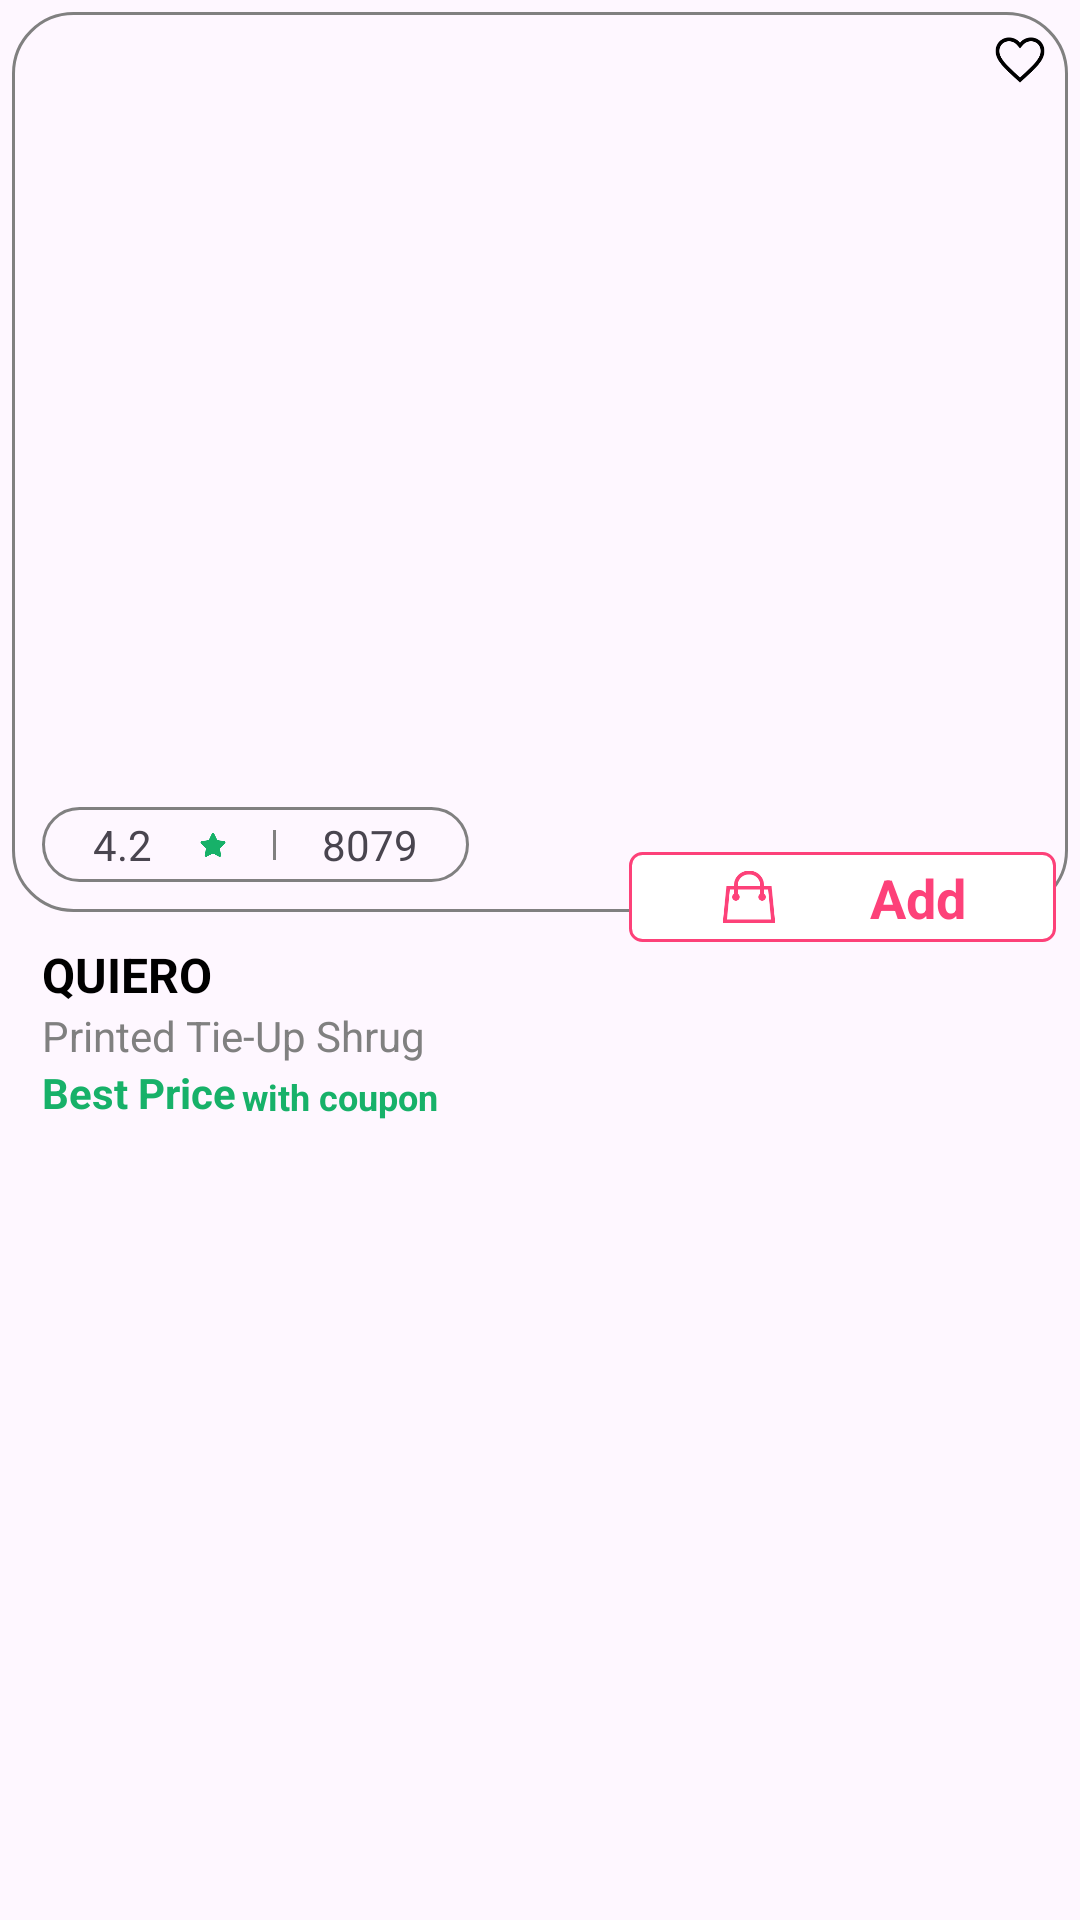

Screen size 1080*1920. Icon name, then its box in pixels as [left=x1, top=y1, right=x2, bottom=y2]:
heart: [left=995, top=37, right=1045, bottom=83]
pinkbag: [left=723, top=871, right=775, bottom=923]
star: [left=200, top=833, right=226, bottom=857]
